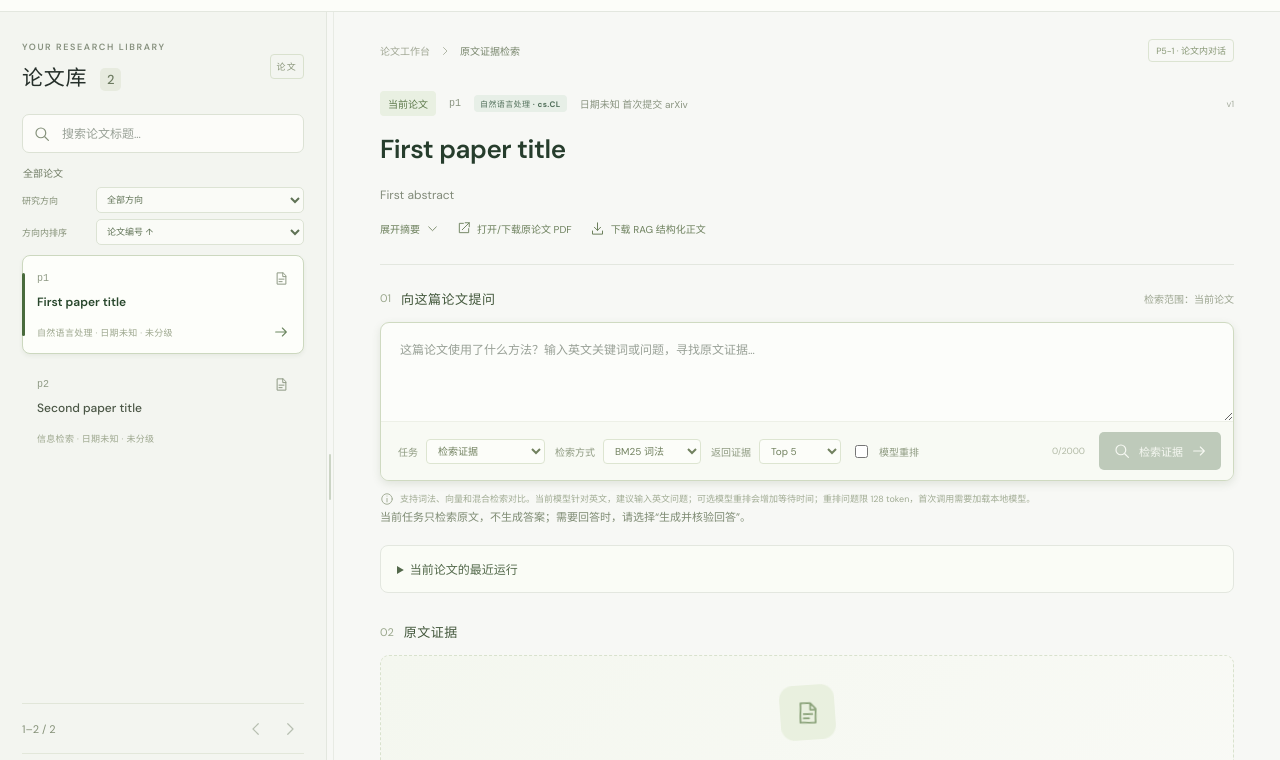
research session state › keeps the source context open under StrictMode effect cleanup
expect the heading "First paper title" below "首次提交 arXiv" is shown: met, box [380,132,566,166]
Type "method" into the text box named "输入检索问题" at x=807, y=372, box [381,323,1233,422]
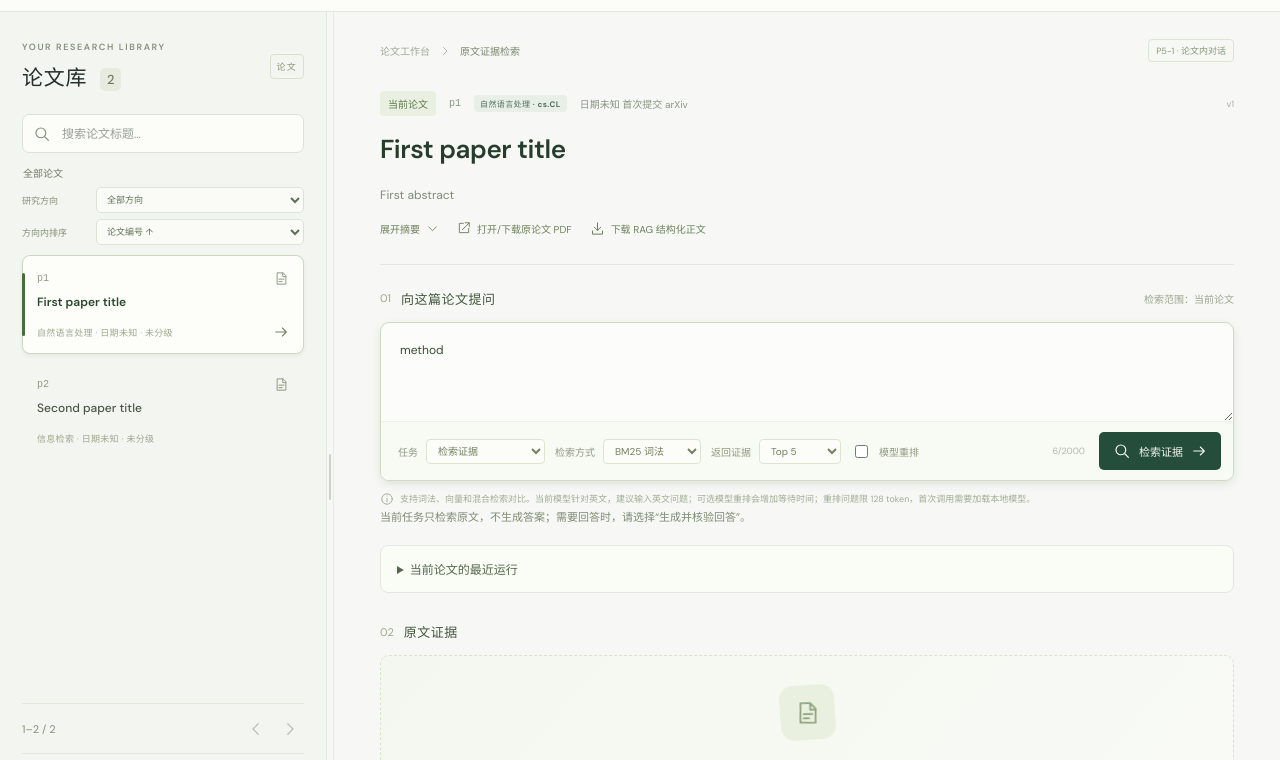
Click the button "检索证据" at x=1160, y=452, box [1099,432,1221,470]
(page scrolled)
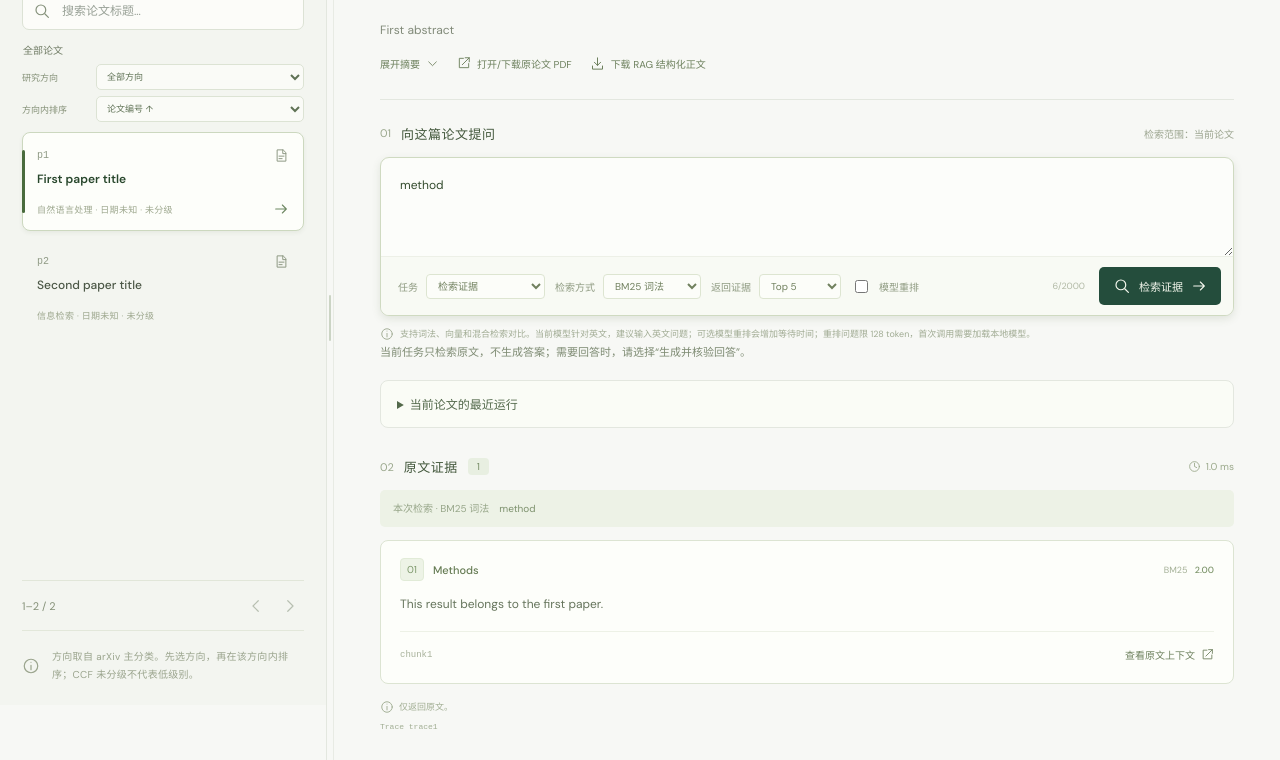
expect the text "This result belongs to the first paper." is shown: met, box [400,596,603,612]
Click the button "查看原文上下文" at x=1170, y=655, box [1125,643,1214,666]
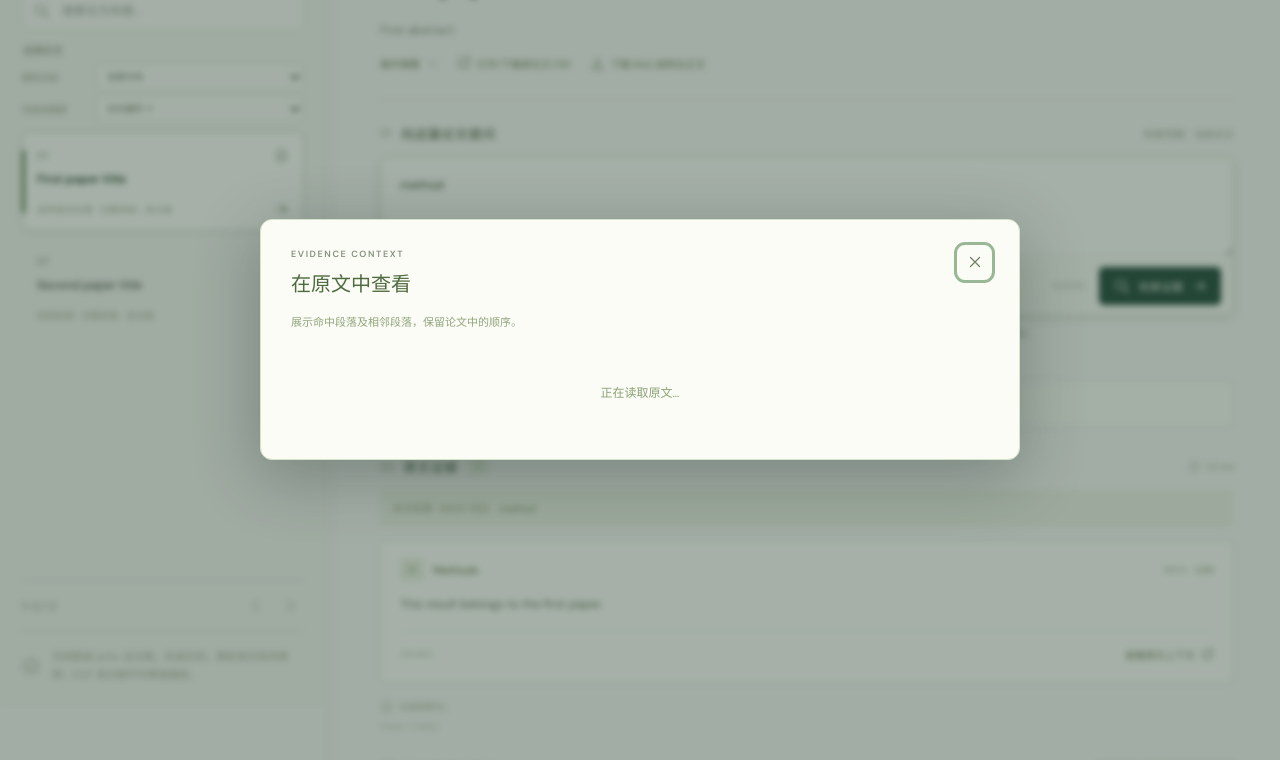
expect the heading "在原文中查看" is shown: met, box [291,268,411,296]
Click the button named "关闭原文" at x=974, y=262, box [960,248,989,276]
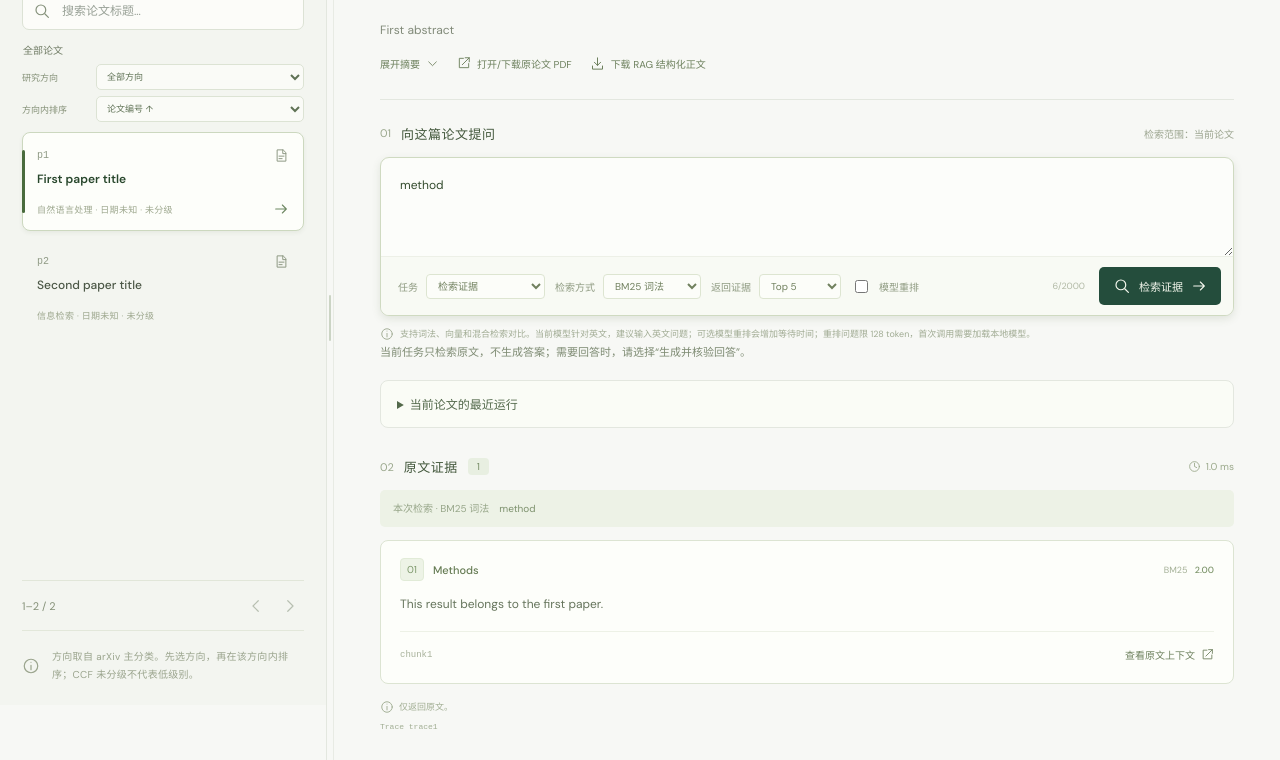
expect the dialog is gone: met
